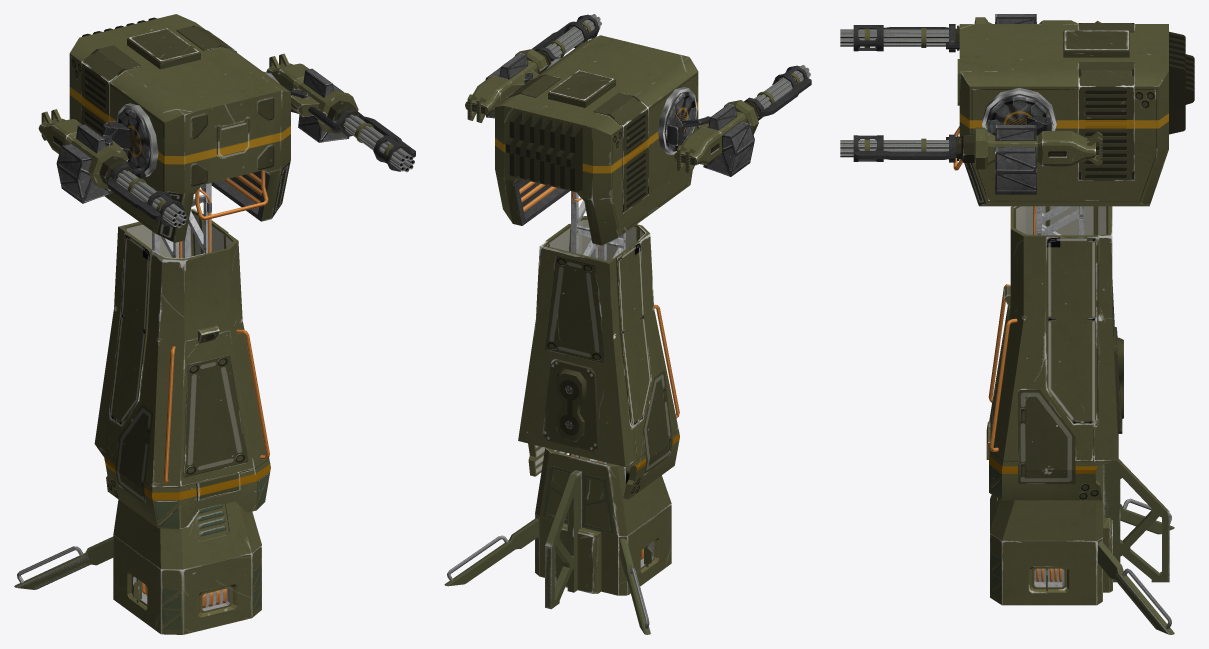
File: turret_tower_02.fbx
3 renders of one model, left to right at view 1: azimuth 30°, elevation 25°; view 2: azimuth 150°, elevation 25°; view 3: azimuth 270°, elevation 25°, orthographic. The views are drawn at different scales.
Visible parts, largest first — view 1: body, head, tower_base, tower_body_door_right, weapon_body (×2), decor (×3), boxes (×2), tower_head_door_right, barrels (×2), decor3, tower_leg, body_frame (+5 smaller); view 2: body, head, tower_base, decor3, tower_leg, weapon_body (×2), tower_body_door_right, tower_body_door_rear, tower_head_door_right, boxes (×2), decor (×2), barrels (×2) (+4 smaller); view 3: body, head, tower_base, tower_body_door_left, tower_head_door_left, tower_leg, decor3, weapon_body, barrels (×2), decor (×2), boxes, holder (+4 smaller).
Part boxes in pixels (x1=…): body: x1=94, y1=208, x2=270, y2=529; head: x1=69, y1=14, x2=290, y2=242; tower_base: x1=113, y1=499, x2=261, y2=634; tower_body_door_right: x1=109, y1=232, x2=152, y2=425; weapon_body (×2): x1=38, y1=53, x2=358, y2=189; decor (×3): x1=103, y1=87, x2=415, y2=227; boxes (×2): x1=56, y1=68, x2=349, y2=203; tower_head_door_right: x1=81, y1=45, x2=141, y2=136; barrels (×2): x1=116, y1=114, x2=414, y2=227; decor3: x1=82, y1=17, x2=200, y2=69; tower_leg: x1=14, y1=536, x2=113, y2=589; body_frame: x1=152, y1=183, x2=211, y2=258; body: x1=518, y1=216, x2=679, y2=499; head: x1=495, y1=35, x2=698, y2=245; tower_base: x1=535, y1=448, x2=671, y2=595; decor3: x1=505, y1=70, x2=615, y2=191; tower_leg: x1=444, y1=470, x2=650, y2=634; weapon_body (×2): x1=465, y1=49, x2=760, y2=174; tower_body_door_right: x1=615, y1=240, x2=651, y2=425; tower_body_door_rear: x1=542, y1=360, x2=599, y2=451; tower_head_door_right: x1=593, y1=92, x2=648, y2=213; boxes (×2): x1=485, y1=53, x2=754, y2=176; decor (×2): x1=524, y1=14, x2=811, y2=145; barrels (×2): x1=545, y1=14, x2=810, y2=109; body: x1=988, y1=206, x2=1118, y2=500; head: x1=959, y1=24, x2=1168, y2=206; tower_base: x1=990, y1=465, x2=1112, y2=605; tower_body_door_left: x1=1046, y1=235, x2=1097, y2=424; tower_head_door_left: x1=1078, y1=62, x2=1134, y2=180; tower_leg: x1=1098, y1=459, x2=1174, y2=634; decor3: x1=1063, y1=30, x2=1194, y2=134; weapon_body: x1=955, y1=127, x2=1102, y2=169; barrels (×2): x1=840, y1=28, x2=948, y2=157; decor (×2): x1=853, y1=24, x2=1051, y2=162; boxes: x1=995, y1=124, x2=1036, y2=194; holder: x1=985, y1=94, x2=1053, y2=135.
Bounding box in the file's own units: 8.53 × 15.97 × 9.49.
